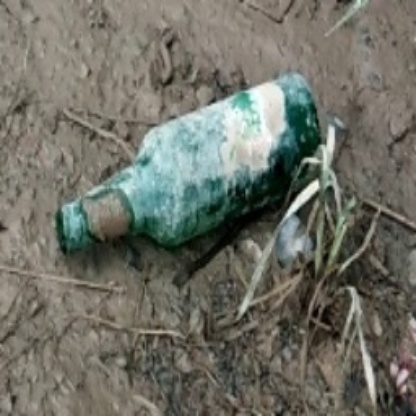bottle: (58, 72, 331, 263)
